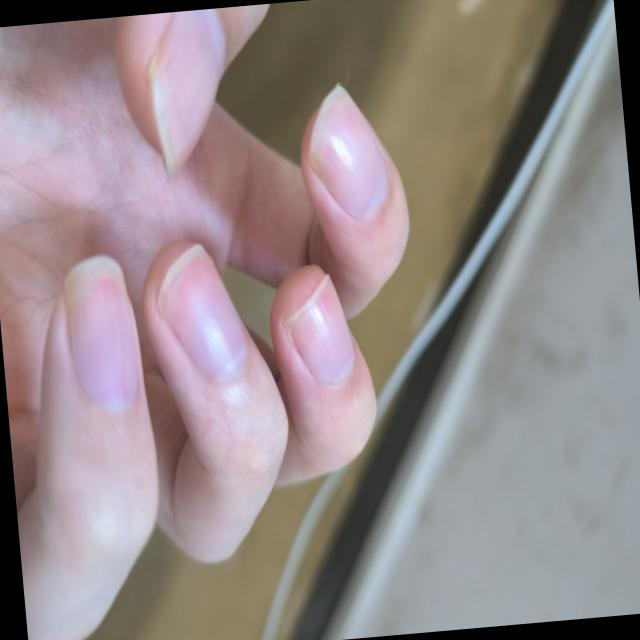Nail: (146, 10, 223, 182), (158, 244, 245, 382), (63, 256, 135, 411), (308, 86, 386, 218), (286, 274, 352, 384)
